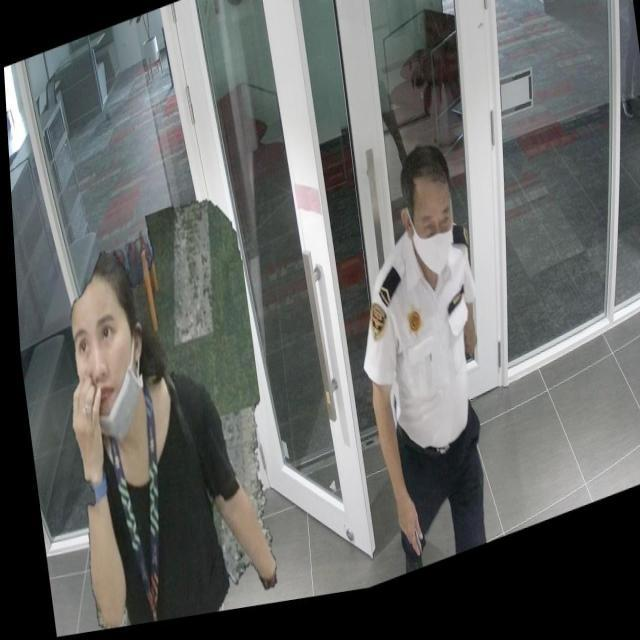hairnet: (69, 350, 139, 453)
mask: (416, 214, 458, 283)
